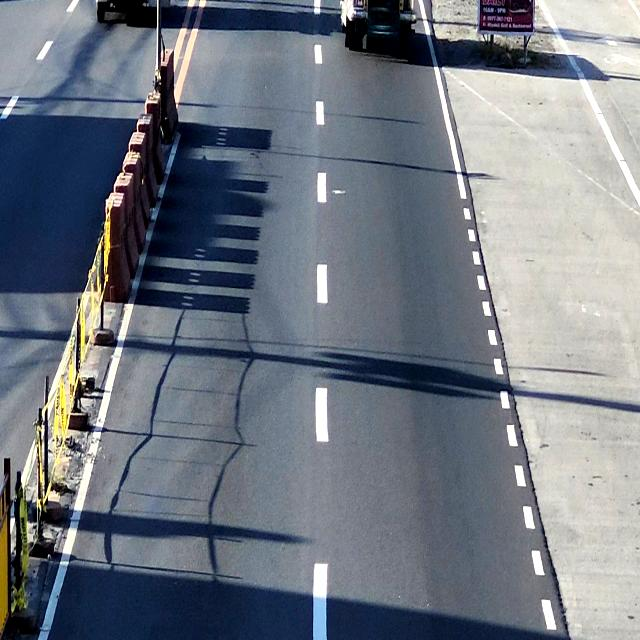Jeep: (342, 0, 415, 48)
